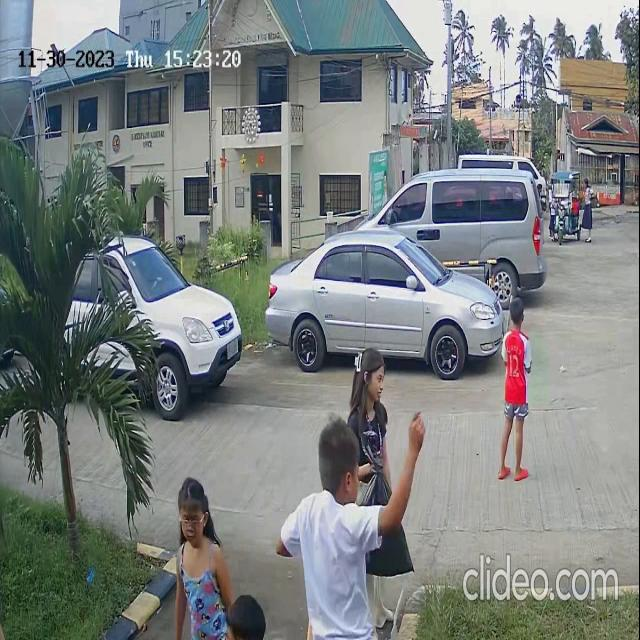person: (167, 480, 219, 584), (502, 303, 531, 399), (349, 343, 388, 399)
